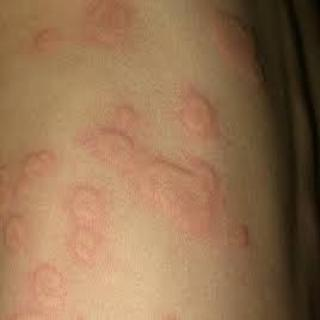urticaria: (109, 101, 249, 259), (5, 135, 116, 294), (47, 2, 150, 50), (169, 80, 224, 149)
